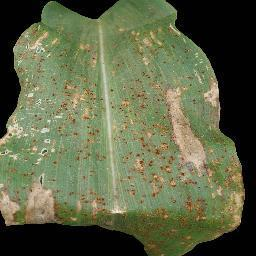Corn_Common_Rust: (0, 18, 254, 256)
